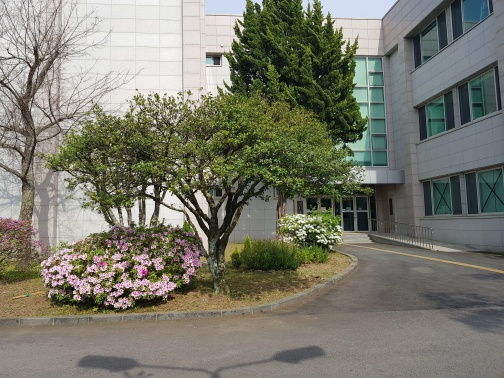College of Nursing: (17, 6, 495, 279)
